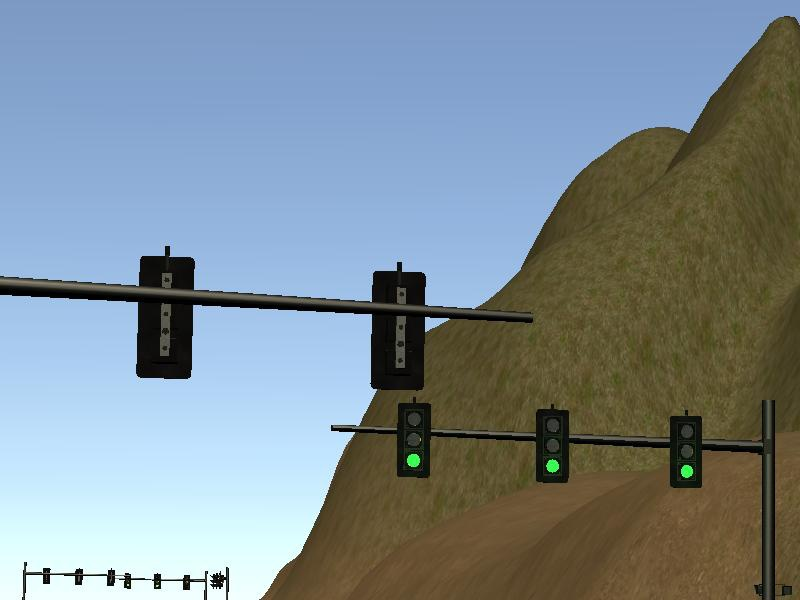Green: (396, 403, 431, 477), (670, 417, 703, 489), (536, 409, 568, 483), (182, 574, 190, 590), (153, 573, 160, 589), (125, 575, 132, 587)
